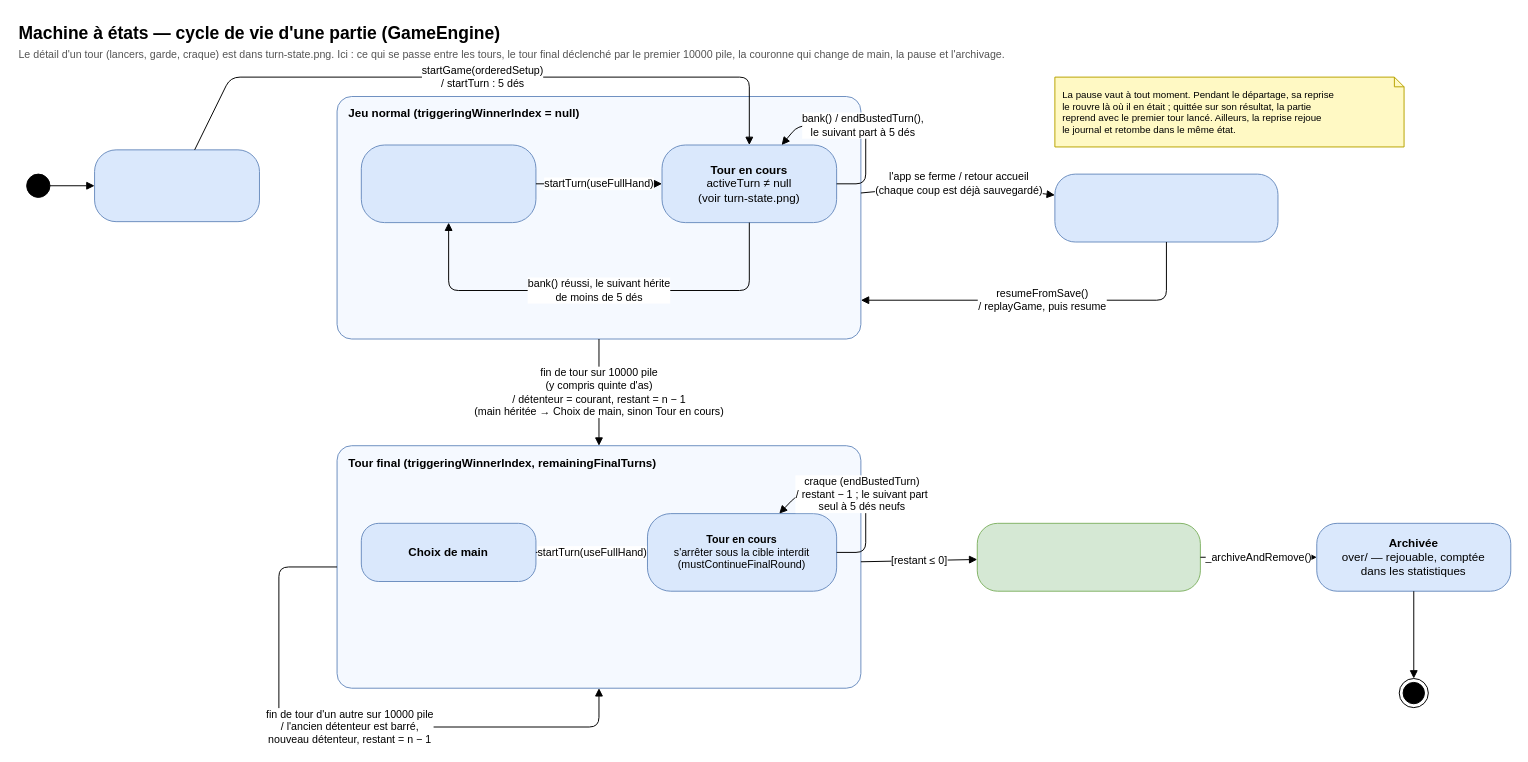
Some shapes in this 1528 by 762 pixel diagram are drawn without their labels. The shapes that lost their labels are listed below. From the top down, each one's centre as x and y in pixels, then its label:
At pixel 176 185: "Départage (state-dice-off.png)".
At pixel 448 183: "Choix de main activeTurn = null hériter ou 5 dés neufs ?".
At pixel 1166 207: "En pause in-progress/game-<seed>.run".
At pixel 1088 556: "Partie terminée gameOver, winnerIndex = détenteur".
